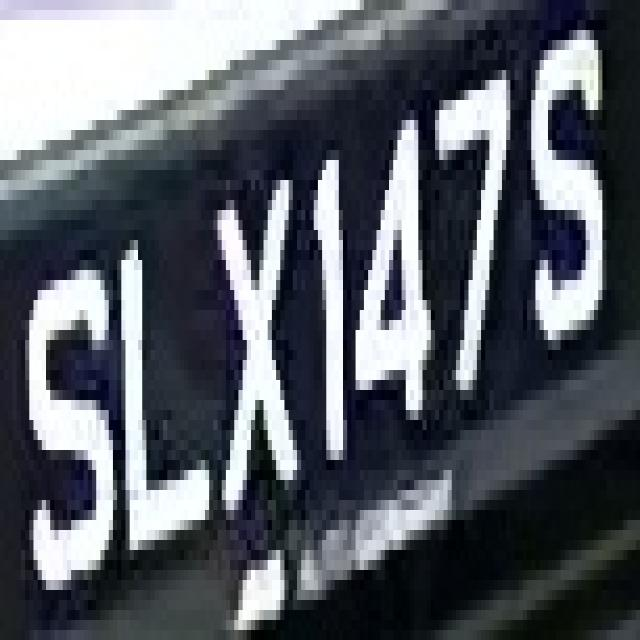1: (297, 90, 351, 540)
4: (326, 70, 427, 500)
7: (414, 70, 515, 440)
L: (109, 210, 218, 570)
S: (514, 20, 624, 350), (21, 230, 117, 600)
X: (201, 150, 301, 540)
